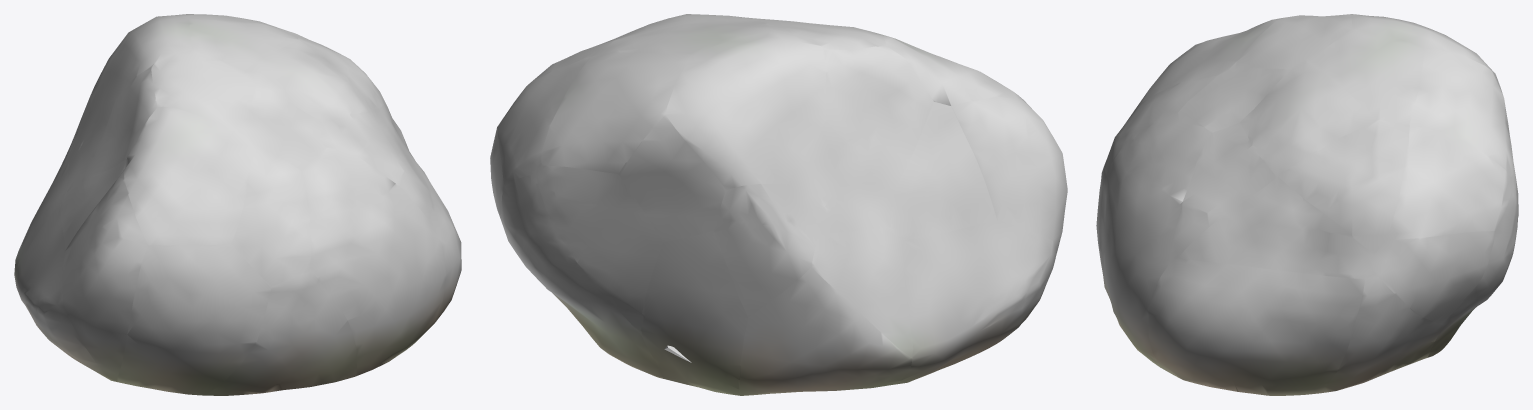
The model's file is rock_v2.glb.
The picture shows the model from 3 angles, left to right: view 1: azimuth 30°, elevation 25°; view 2: azimuth 150°, elevation 25°; view 3: azimuth 270°, elevation 25°; orthographic projection. The views are drawn at different scales.
Parts seen in each view (by area): view 1: Chunk_10, Chunk_07, Chunk_20, Chunk_12, Chunk_02, Chunk_15, Chunk_28, Chunk_04, Chunk_26, Chunk_23, Chunk_27, Chunk_29 (+9 smaller); view 2: Chunk_27, Chunk_04, Chunk_01, Chunk_06, Chunk_24, Chunk_11, Chunk_12, Chunk_25, Chunk_14, Chunk_03, Chunk_17, Chunk_19 (+9 smaller); view 3: Chunk_05, Chunk_10, Chunk_13, Chunk_16, Chunk_21, Chunk_26, Chunk_24, Chunk_08, Chunk_29, Chunk_00, Chunk_18, Chunk_28 (+5 smaller).
Part boxes in pixels (box(x1,y1,x2,y2)): Chunk_10: box(301, 143, 446, 375); Chunk_07: box(116, 244, 271, 395); Chunk_20: box(124, 106, 252, 245); Chunk_12: box(62, 170, 147, 381); Chunk_02: box(205, 269, 357, 395); Chunk_15: box(231, 144, 311, 286); Chunk_28: box(151, 50, 257, 134); Chunk_04: box(14, 205, 111, 380); Chunk_26: box(247, 40, 371, 121); Chunk_23: box(245, 83, 333, 170); Chunk_27: box(90, 15, 191, 111); Chunk_29: box(189, 19, 298, 71); Chunk_27: box(665, 31, 826, 189); Chunk_04: box(892, 220, 1056, 384); Chunk_01: box(738, 267, 912, 395); Chunk_06: box(641, 231, 748, 395); Chunk_24: box(541, 52, 693, 173); Chunk_11: box(537, 165, 662, 335); Chunk_12: box(951, 97, 1067, 254); Chunk_25: box(825, 46, 933, 193); Chunk_14: box(714, 184, 818, 317); Chunk_03: box(501, 173, 665, 379); Chunk_17: box(890, 102, 996, 240); Chunk_19: box(618, 115, 725, 242); Chunk_05: box(1148, 258, 1365, 395); Chunk_10: box(1099, 112, 1211, 369); Chunk_13: box(1178, 177, 1373, 278); Chunk_16: box(1386, 125, 1512, 240); Chunk_21: box(1279, 119, 1409, 255); Chunk_26: box(1240, 63, 1376, 176); Chunk_24: box(1409, 48, 1513, 177); Chunk_08: box(1371, 231, 1495, 324); Chunk_29: box(1309, 29, 1424, 124); Chunk_00: box(1319, 269, 1442, 393); Chunk_18: box(1169, 122, 1276, 262); Chunk_28: box(1229, 14, 1352, 69).
Size of the model in its own units: 2.96 by 1.89 by 2.57.
